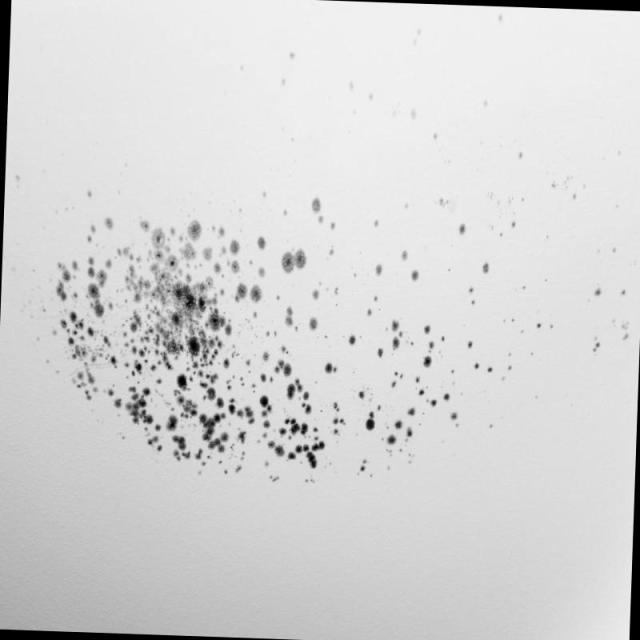stain marks: (45, 135, 640, 524)
